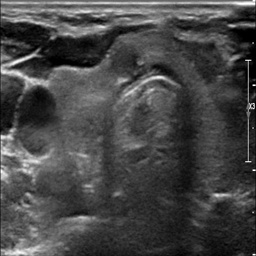mass: (22, 88, 56, 126)
